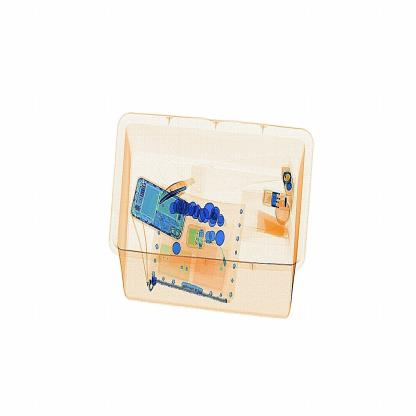pliers: (158, 182, 200, 206)
